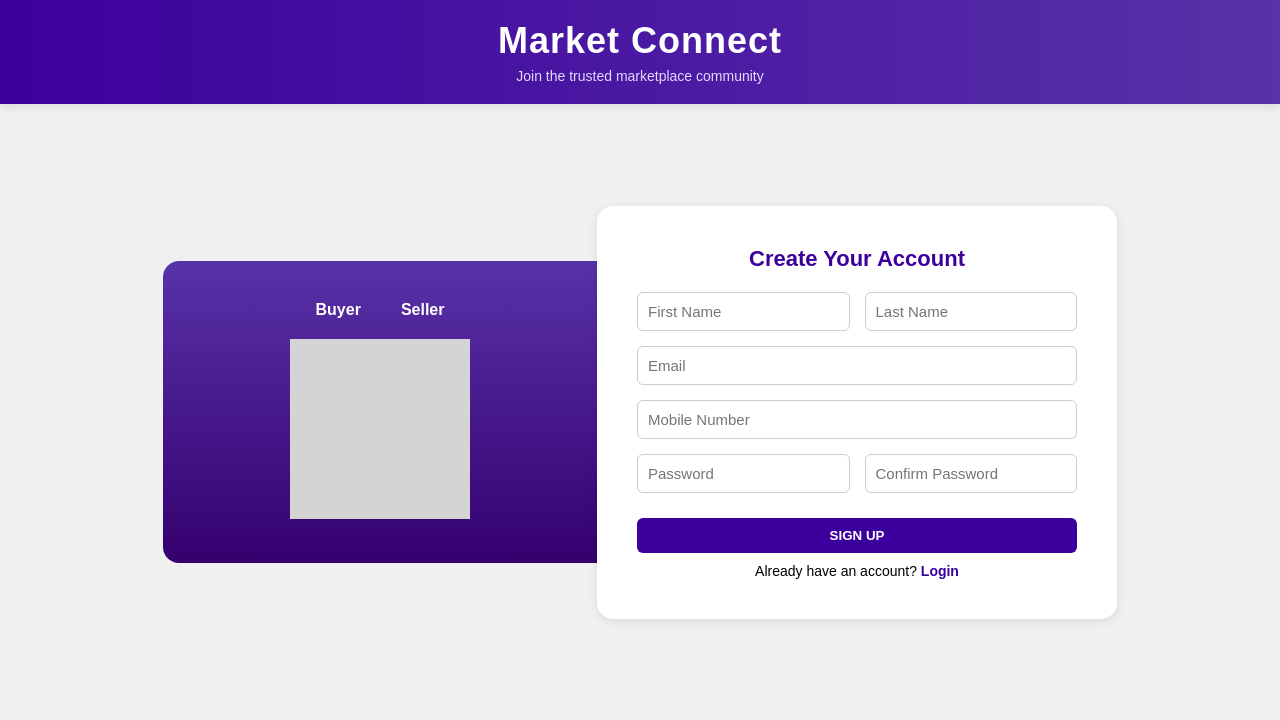
Test case: Signup › requires all form fields before submitting
In the password field with placeholder "Password": [743, 473] box [637,454,850,492], type "Valid123"
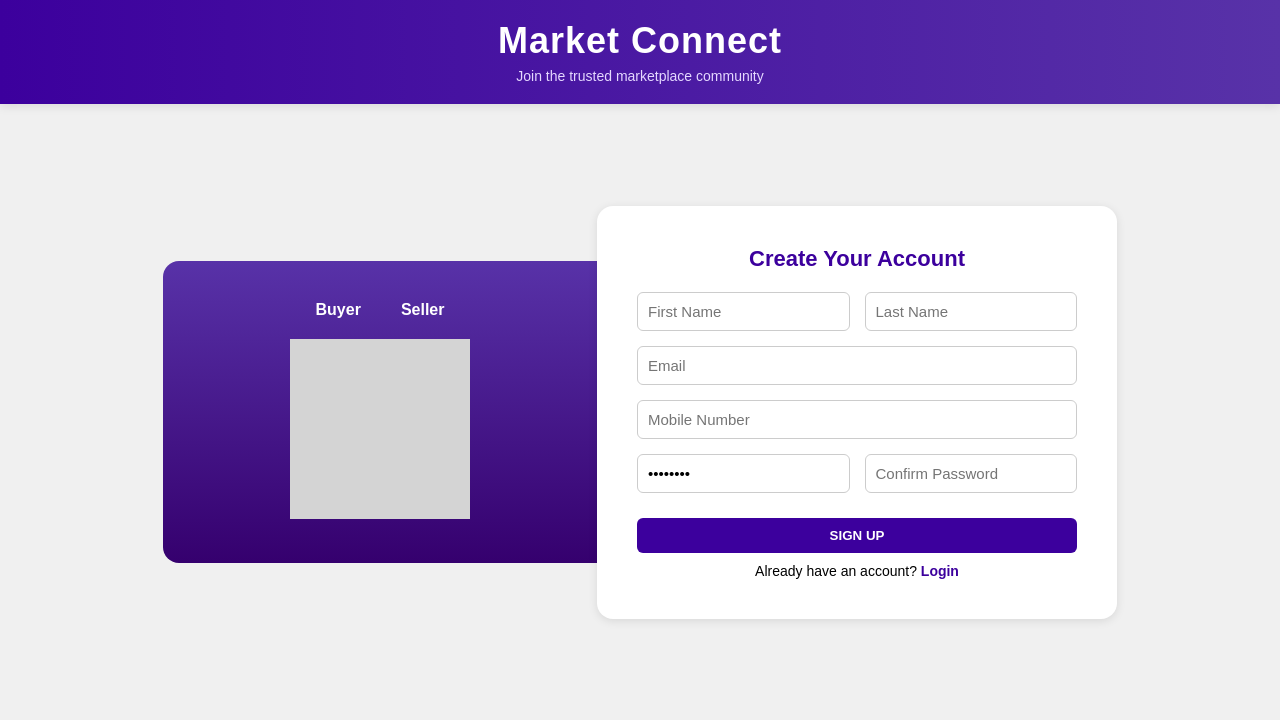
In the password field with placeholder "Confirm Password": [971, 473] box [864,454,1077,492], type "Valid123"
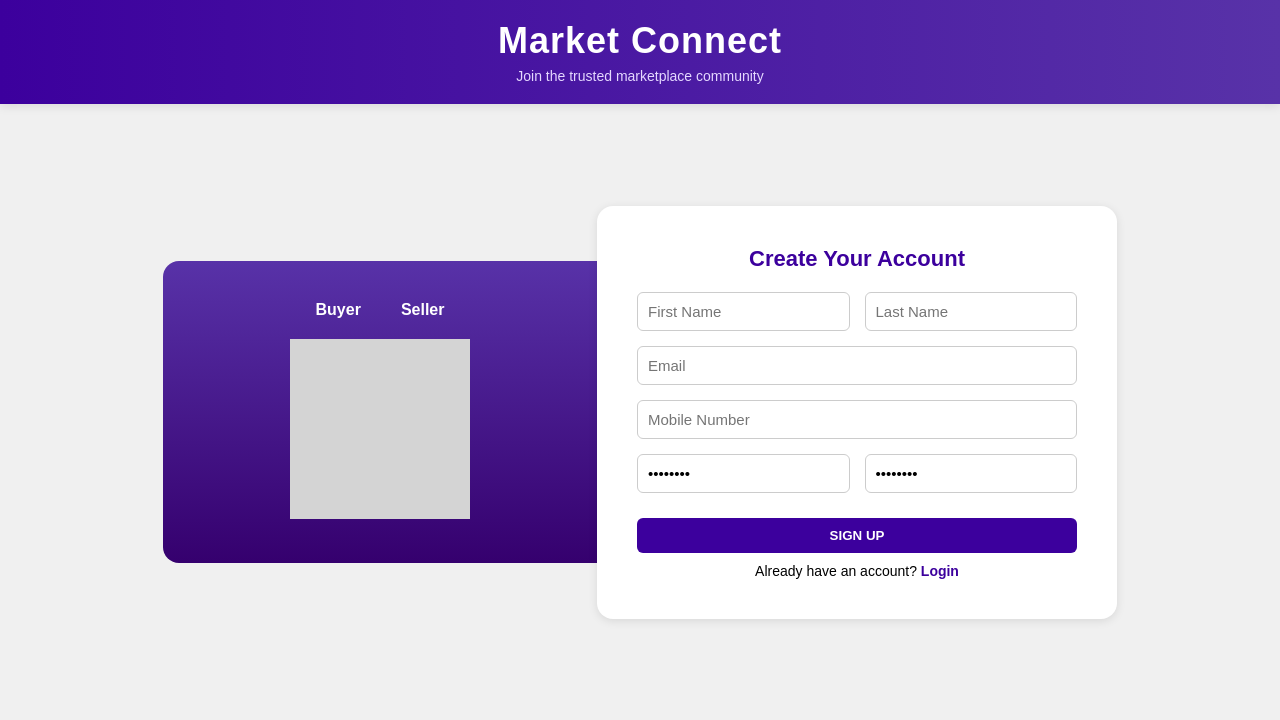
Click the button "SIGN UP": [857, 535] box [637,518,1077,552]
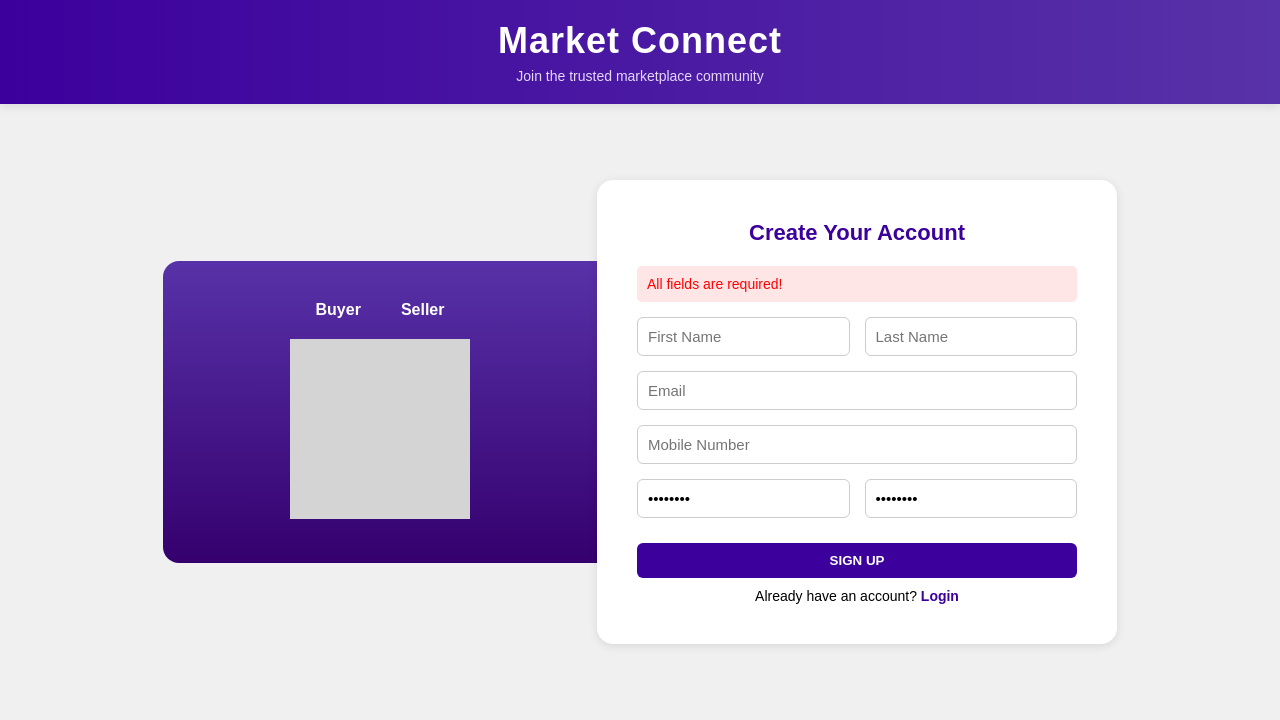
Now the text "All fields are required!" is shown, box [637,266,1077,302]
